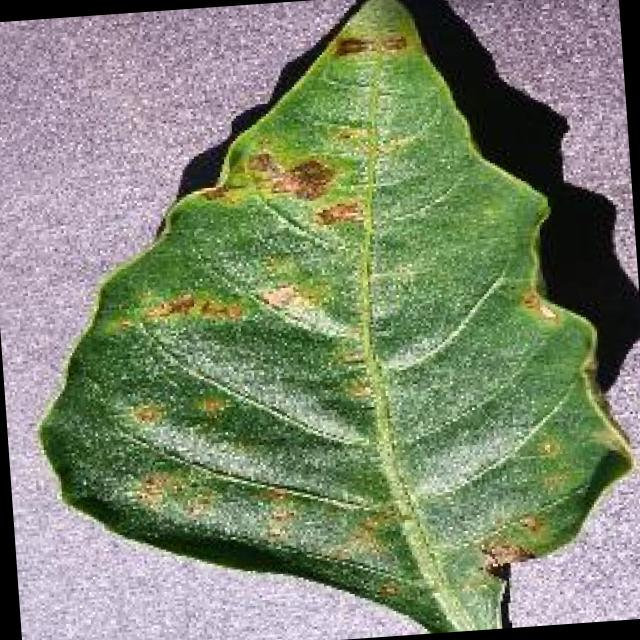Chilli_Bacterial_Spot: (6, 0, 640, 640), (107, 270, 328, 340), (238, 136, 368, 238), (138, 283, 248, 330), (325, 26, 412, 64), (476, 533, 536, 582), (286, 151, 336, 202), (309, 194, 366, 233), (140, 288, 197, 324), (516, 283, 561, 328), (190, 290, 246, 326), (254, 276, 302, 314), (122, 396, 170, 432), (187, 386, 229, 424), (328, 31, 372, 61), (240, 146, 278, 178), (374, 25, 412, 55), (531, 434, 563, 464)
